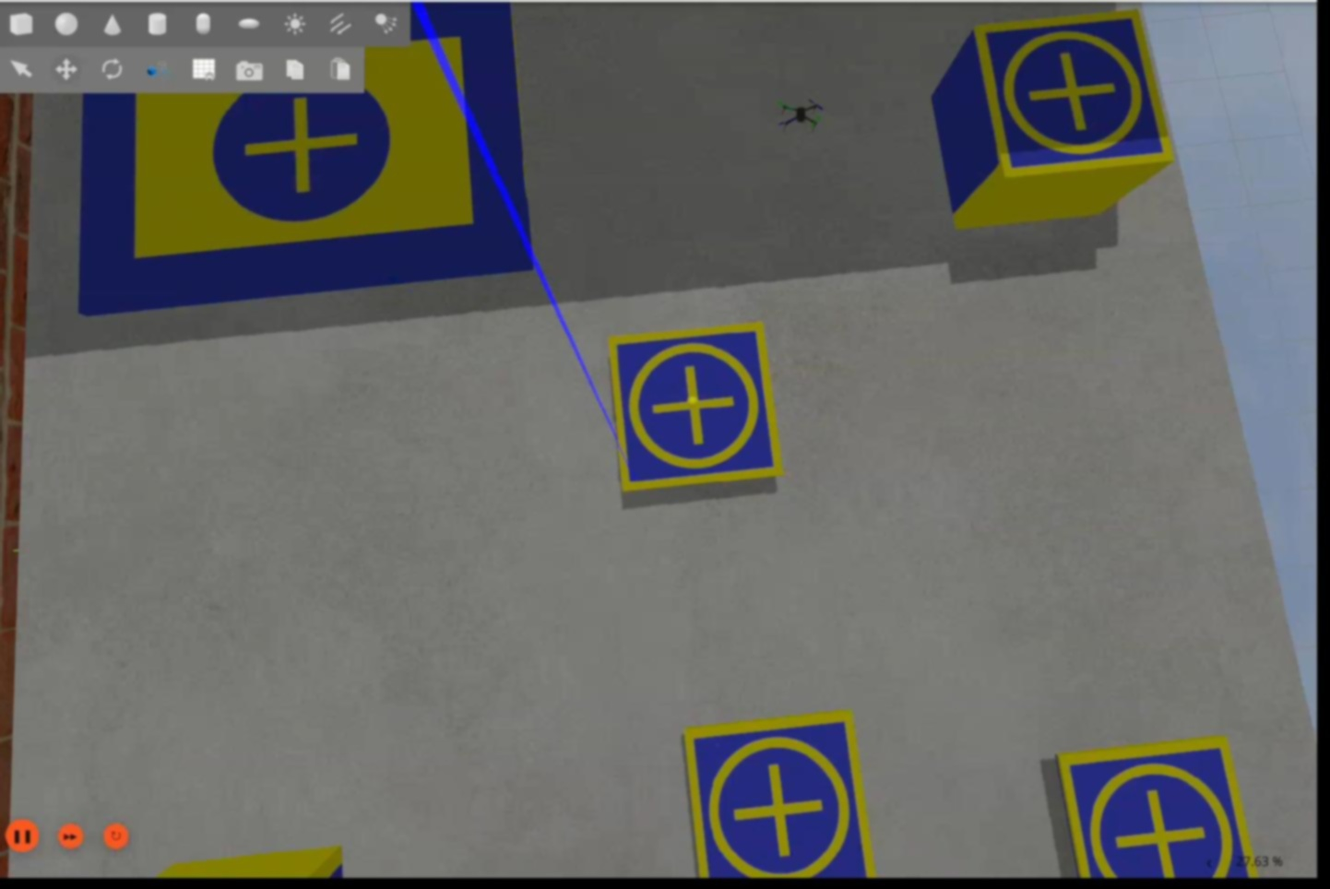large_base: (78, 1, 538, 317)
small_base: (970, 8, 1179, 180), (683, 708, 876, 879), (604, 319, 783, 499), (1059, 735, 1263, 880)
